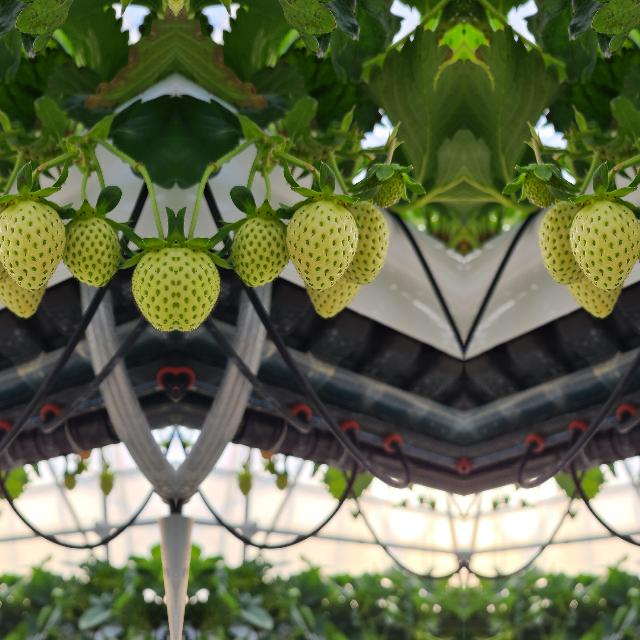Health_25: (334, 185, 398, 288), (528, 185, 592, 288), (285, 200, 357, 290), (569, 200, 640, 290), (0, 200, 65, 290), (226, 212, 292, 298), (58, 212, 124, 298), (175, 242, 223, 328), (127, 242, 175, 328), (300, 264, 366, 324), (560, 264, 626, 324), (0, 263, 50, 324), (360, 158, 406, 214), (520, 158, 566, 214), (0, 184, 16, 287)
